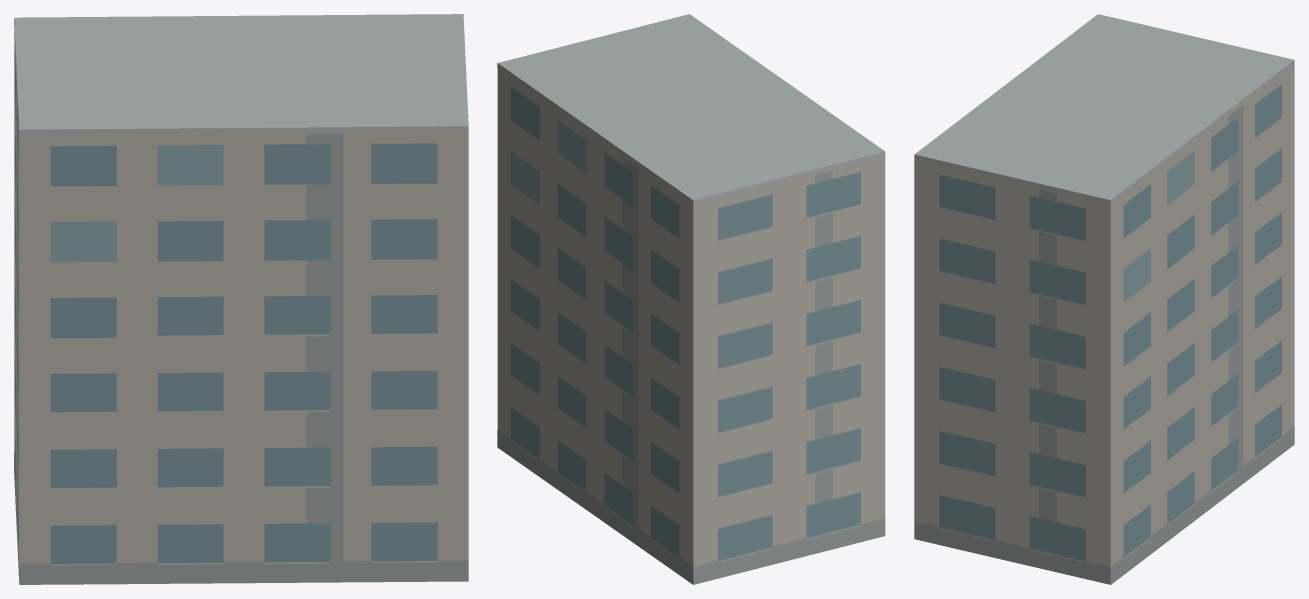
File: survey-upis-32847833.glb
3 renders of one model, left to right at view 1: azimuth 30°, elevation 25°; view 2: azimuth 150°, elevation 25°; view 3: azimuth 270°, elevation 25°, orthographic. The views are drawn at different scales.
Visible parts, largest first — view 1: survey-upis-32847833.tmp; view 2: survey-upis-32847833.tmp; view 3: survey-upis-32847833.tmp.
Part boxes in pixels (x1,y1,x2,y2): survey-upis-32847833.tmp: [14, 14, 468, 584]; survey-upis-32847833.tmp: [497, 14, 885, 584]; survey-upis-32847833.tmp: [914, 14, 1294, 584].
Size of the model in its own units: 16.88 by 16.25 by 14.57.
